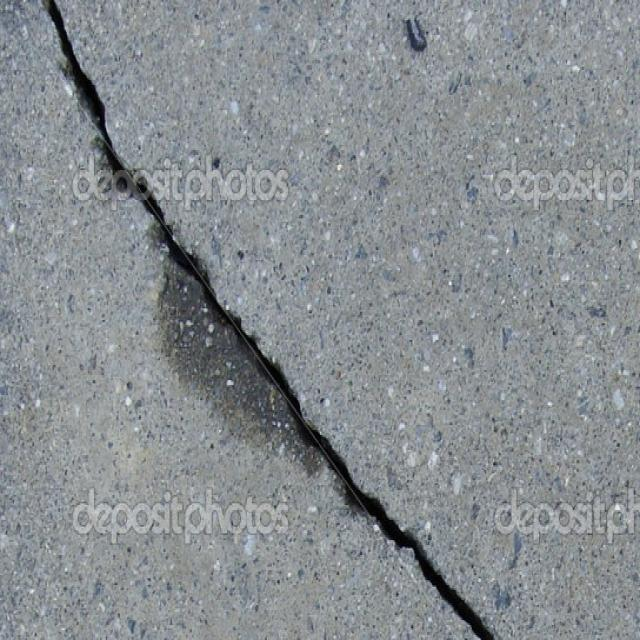Diagonal: (36, 0, 495, 637)
